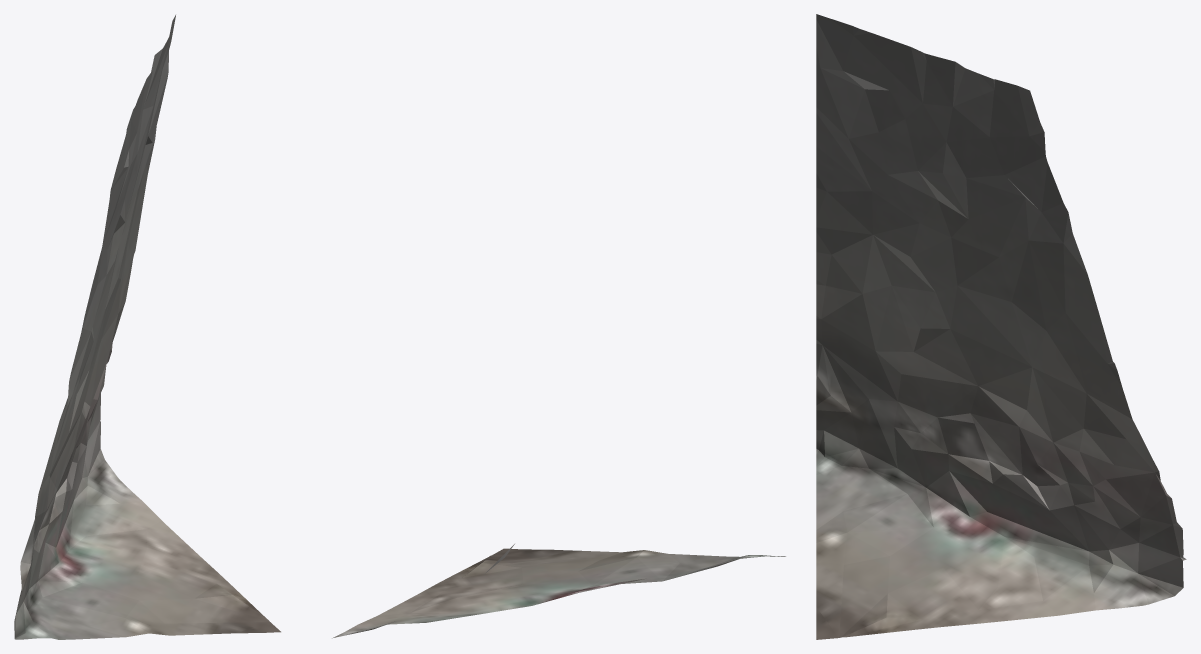
The picture shows the model from 3 angles, left to right: view 1: azimuth 30°, elevation 25°; view 2: azimuth 150°, elevation 25°; view 3: azimuth 270°, elevation 25°; orthographic projection. The views are drawn at different scales.
Bounding box in the file's own units: 0.4156 × 0.8043 × 0.4915.
Materials: 1 (1 with a texture image).
